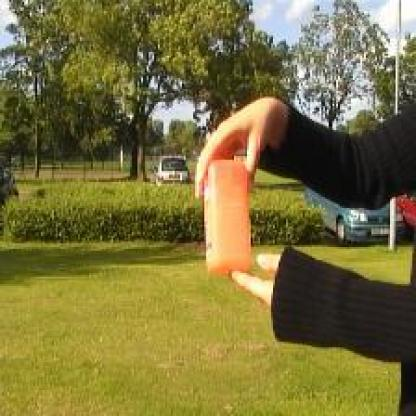other: (178, 146, 265, 274)
